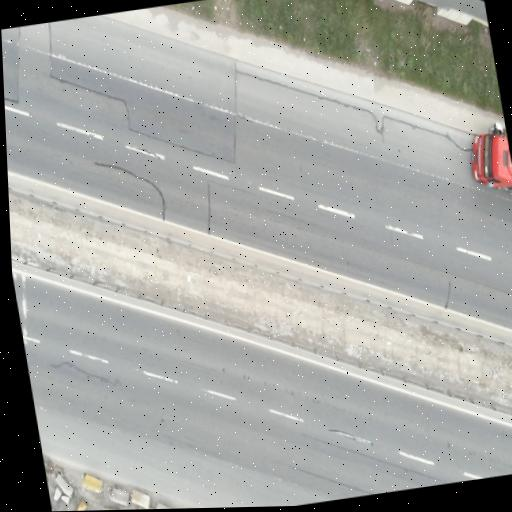person: (489, 114, 506, 134)
truck: (472, 122, 511, 192)
